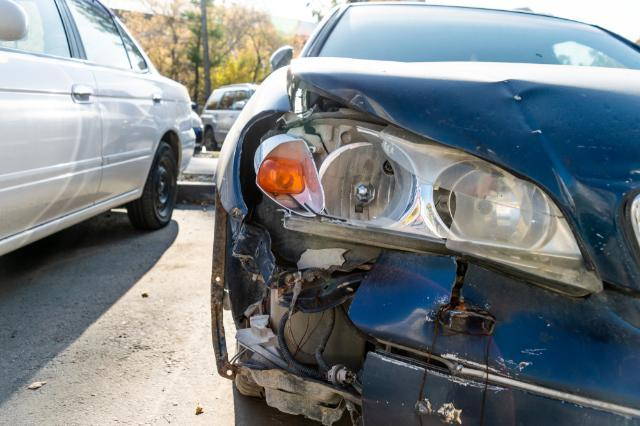crack: (439, 261, 471, 318)
dent: (486, 80, 637, 207)
lamp broken: (251, 76, 590, 294)
no part: (211, 212, 384, 426)
